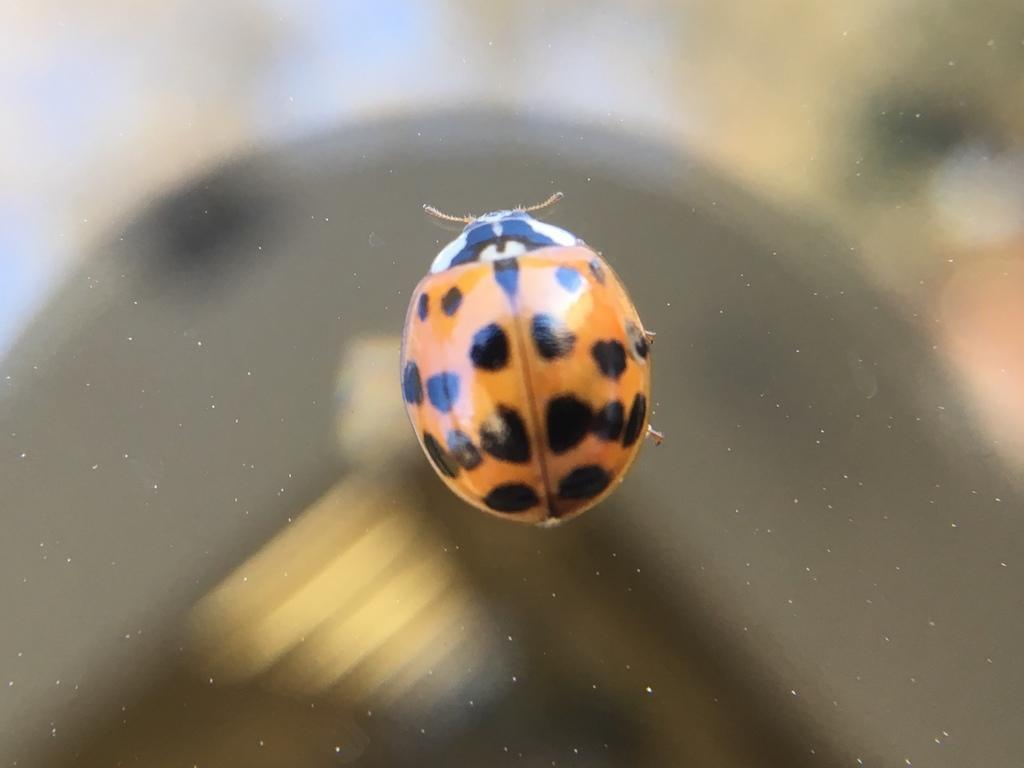ladybug: (399, 185, 671, 535)
